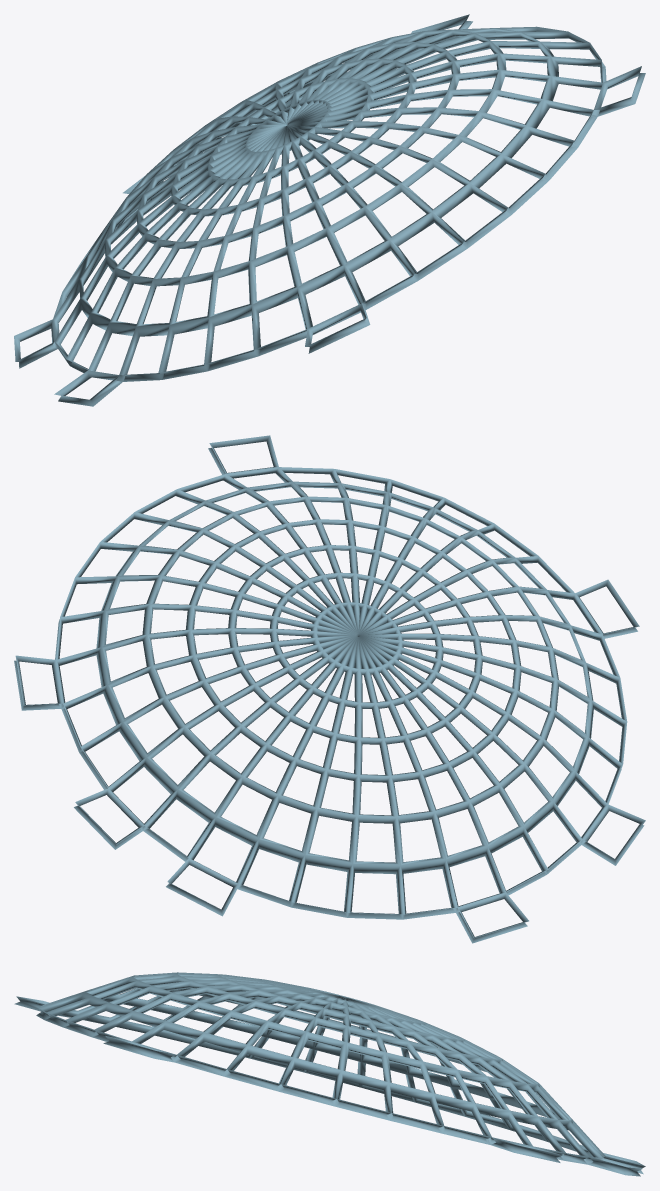
File: web.fbx
3 views of the same model, one above another, from view 1: azimuth 30°, elevation 25°; view 2: azimuth 150°, elevation 25°; view 3: azimuth 270°, elevation 25° (orthographic). The views are drawn at different scales.
Parts seen in each view (by area): view 1: Circle.002; view 2: Circle.002; view 3: Circle.002.
Boxes of the visible parts, bbox=[...] form: Circle.002: bbox=[14, 14, 645, 406]; Circle.002: bbox=[14, 435, 645, 943]; Circle.002: bbox=[14, 972, 645, 1176].
Size of the model in its own units: 53.22 by 27.97 by 57.28.
